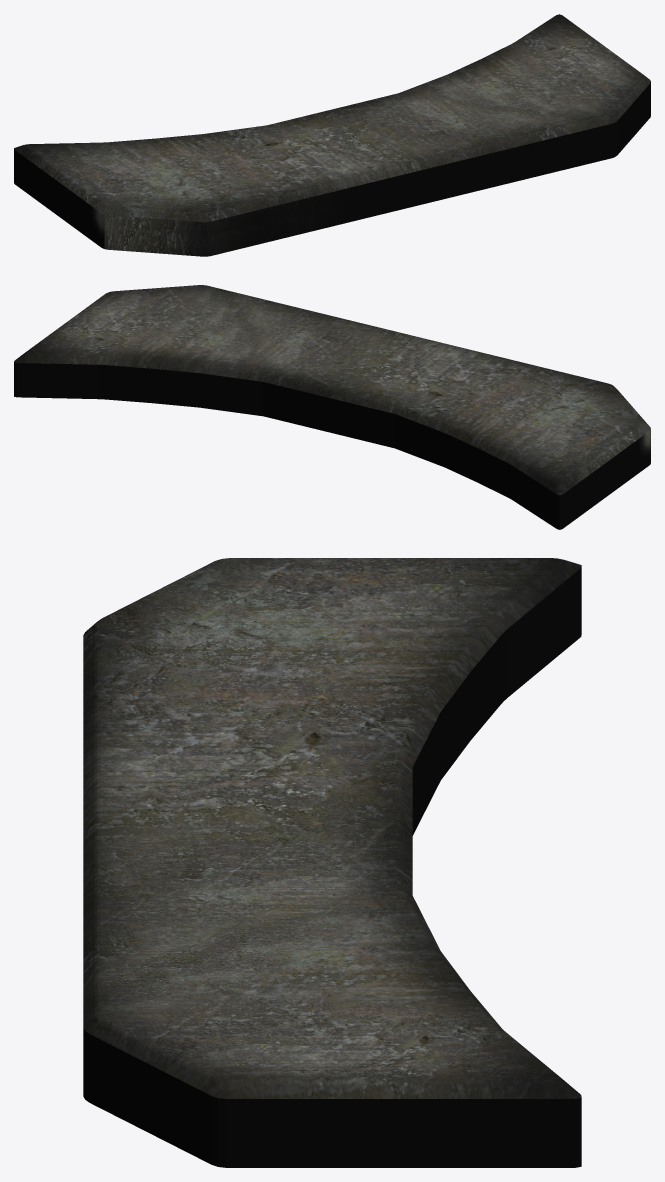
Rendered from Room 1 floor a.fbx.
The picture shows the model from 3 angles, top to bottom: view 1: azimuth 30°, elevation 25°; view 2: azimuth 150°, elevation 25°; view 3: azimuth 270°, elevation 25°; orthographic projection. The views are drawn at different scales.
Visible parts, largest first — view 1: Cube.154; view 2: Cube.154; view 3: Cube.154.
Part boxes in pixels (x1,y1,x2,y2): Cube.154: (14, 14, 650, 256); Cube.154: (14, 285, 650, 529); Cube.154: (83, 558, 581, 1167).
Size of the model in its own units: 9.5 by 134 by 52.92.
